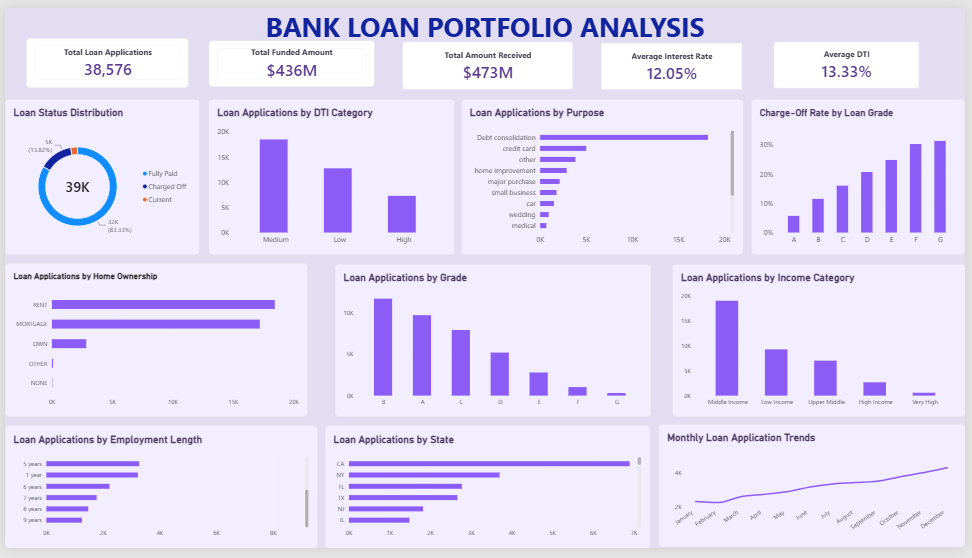

What the dashboard file says about the page in this screenshot:
{"tool":"powerbi","page":{"name":"Page 1","canvas":[1920,1080],"ordinal":0},"visuals":[{"type":"cardVisual","fields":{"Data":["public cleaned_financial_loan.Total Loan Applications"]},"box":[43.2,59.1,325,100],"z":0},{"type":"cardVisual","fields":{"Data":["public cleaned_financial_loan.Total Funded Amount"]},"box":[406.8,65.9,331.8,93.2],"z":1000},{"type":"cardVisual","fields":{"Data":["public cleaned_financial_loan.Total Amount Received"]},"box":[795.5,68.2,340.9,95.5],"z":2000},{"type":"cardVisual","fields":{"Data":["public cleaned_financial_loan.Average Interest Rate"]},"box":[1193.2,70.5,281.8,93.2],"z":3000},{"type":"cardVisual","fields":{"Data":["public cleaned_financial_loan.Average DTI"]},"box":[1538.6,68.2,290.9,93.2],"z":4000},{"type":"donutChart","title":"Loan Status Distribution","fields":{"Category":["public cleaned_financial_loan.loan_status"],"Y":["public cleaned_financial_loan.Total Loan Applications"]},"box":[0,181.8,388.6,311.4],"z":5000},{"type":"clusteredColumnChart","title":"Loan Applications by Grade","fields":{"Category":["public cleaned_financial_loan.grade"],"Y":["public cleaned_financial_loan.Total Loan Applications"]},"box":[659.1,511.4,631.8,304.5],"z":6000},{"type":"clusteredBarChart","title":"Loan Applications by Purpose","fields":{"Category":["public cleaned_financial_loan.purpose"],"Y":["public cleaned_financial_loan.Total Loan Applications"]},"box":[911.4,181.8,563.6,311.4],"z":7000},{"type":"clusteredBarChart","title":"Loan Applications by Home Ownership","fields":{"Category":["public cleaned_financial_loan.home_ownership"],"Y":["public cleaned_financial_loan.Total Loan Applications"]},"box":[0,509.1,604.5,306.8],"z":8000},{"type":"clusteredColumnChart","title":"Loan Applications by Income Category","fields":{"Category":["public cleaned_financial_loan.income_category"],"Y":["public cleaned_financial_loan.Total Loan Applications"]},"box":[1334.1,511.4,586.4,304.5],"z":9000},{"type":"clusteredColumnChart","title":"Loan Applications by DTI Category","fields":{"Category":["public cleaned_financial_loan.DTI Category Corrected"],"Y":["public cleaned_financial_loan.Total Loan Applications"]},"box":[406.8,181.8,490.9,311.4],"z":10000},{"type":"clusteredBarChart","title":"Loan Applications by Employment Length","fields":{"Category":["public cleaned_financial_loan.emp_length"],"Y":["public cleaned_financial_loan.Total Loan Applications"]},"box":[0,834.1,625,245.5],"z":11000},{"type":"clusteredBarChart","title":"Loan Applications by State","fields":{"Category":["public cleaned_financial_loan.address_state"],"Y":["public cleaned_financial_loan.Total Loan Applications"]},"box":[640.9,834.1,650,245.5],"z":12000},{"type":"lineChart","title":"Monthly Loan Application Trends","fields":{"Category":["public cleaned_financial_loan.issue_date.Variation.Date Hierarchy.Year","public cleaned_financial_loan.issue_date.Variation.Date Hierarchy.Month"],"Y":["public cleaned_financial_loan.Total Loan Applications"]},"box":[1308.3,833.3,612.5,245.8],"z":13000},{"type":"clusteredColumnChart","title":"Charge-Off Rate by Loan Grade","fields":{"Category":["public cleaned_financial_loan.grade"],"Y":["public cleaned_financial_loan.Charge-Off Rate"]},"box":[1493.2,181.8,427.3,311.4],"z":14000},{"type":"textbox","box":[0,0,1920,80],"z":15000}]}

Visuals, with their boxes in screenshot pixels (x1, y1, x2, y2), scaled from the page's 1920x1080 canvas onto the 972x558 screenshot:
cardVisual - public cleaned_financial_loan.Total Loan Applications: bbox=[22, 31, 186, 82]
cardVisual - public cleaned_financial_loan.Total Funded Amount: bbox=[206, 34, 374, 82]
cardVisual - public cleaned_financial_loan.Total Amount Received: bbox=[403, 35, 575, 85]
cardVisual - public cleaned_financial_loan.Average Interest Rate: bbox=[604, 36, 747, 85]
cardVisual - public cleaned_financial_loan.Average DTI: bbox=[779, 35, 926, 83]
"Loan Status Distribution" donutChart: bbox=[0, 94, 197, 255]
"Loan Applications by Grade" clusteredColumnChart: bbox=[334, 264, 654, 422]
"Loan Applications by Purpose" clusteredBarChart: bbox=[461, 94, 747, 255]
"Loan Applications by Home Ownership" clusteredBarChart: bbox=[0, 263, 306, 422]
"Loan Applications by Income Category" clusteredColumnChart: bbox=[675, 264, 971, 422]
"Loan Applications by DTI Category" clusteredColumnChart: bbox=[206, 94, 454, 255]
"Loan Applications by Employment Length" clusteredBarChart: bbox=[0, 431, 316, 557]
"Loan Applications by State" clusteredBarChart: bbox=[324, 431, 654, 557]
"Monthly Loan Application Trends" lineChart: bbox=[662, 431, 971, 557]
"Charge-Off Rate by Loan Grade" clusteredColumnChart: bbox=[756, 94, 971, 255]
textbox: bbox=[0, 0, 971, 41]
